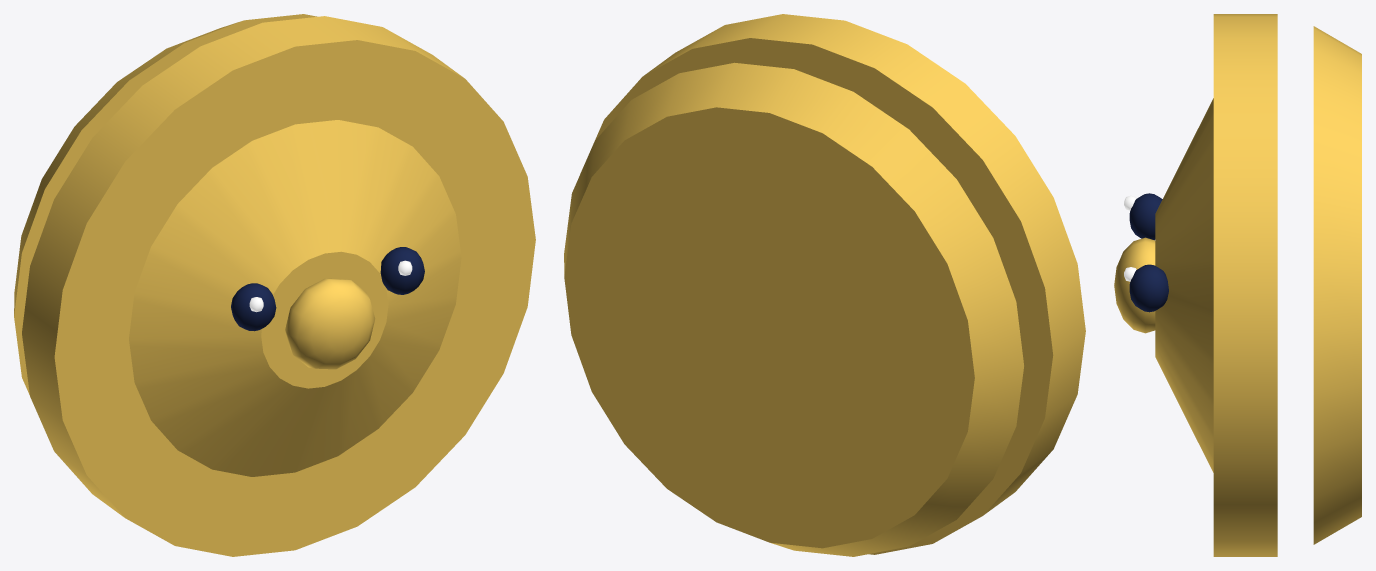
Rendered from hi-hat.glb.
The picture shows the model from 3 angles, left to right: view 1: azimuth 30°, elevation 25°; view 2: azimuth 150°, elevation 25°; view 3: azimuth 270°, elevation 25°; orthographic projection.
Parts seen in each view (by area): view 1: Body, Eyes; view 2: Body; view 3: Body, Eyes.
Boxes of the visible parts, box(x1,y1,x2,y2) form: Body: box(14, 14, 535, 556); Eyes: box(231, 247, 424, 331); Body: box(564, 14, 1085, 556); Body: box(1114, 14, 1361, 556); Eyes: box(1124, 193, 1168, 312).
Bounding box in the file's own units: 0.136 × 0.136 × 0.0618.
